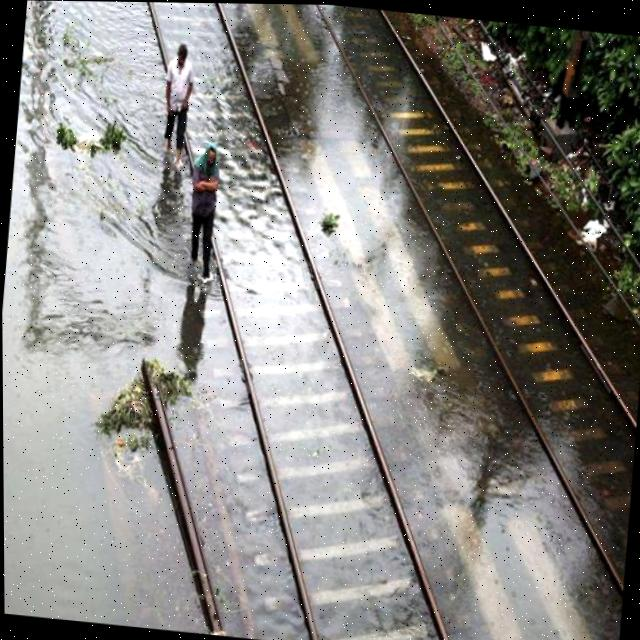civilian: (168, 127, 243, 304), (147, 30, 203, 166)
